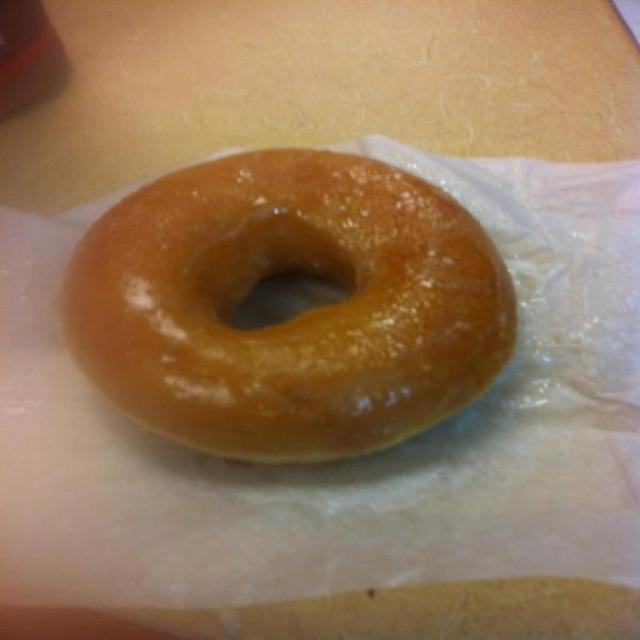炸货点心: (70, 103, 539, 504)
